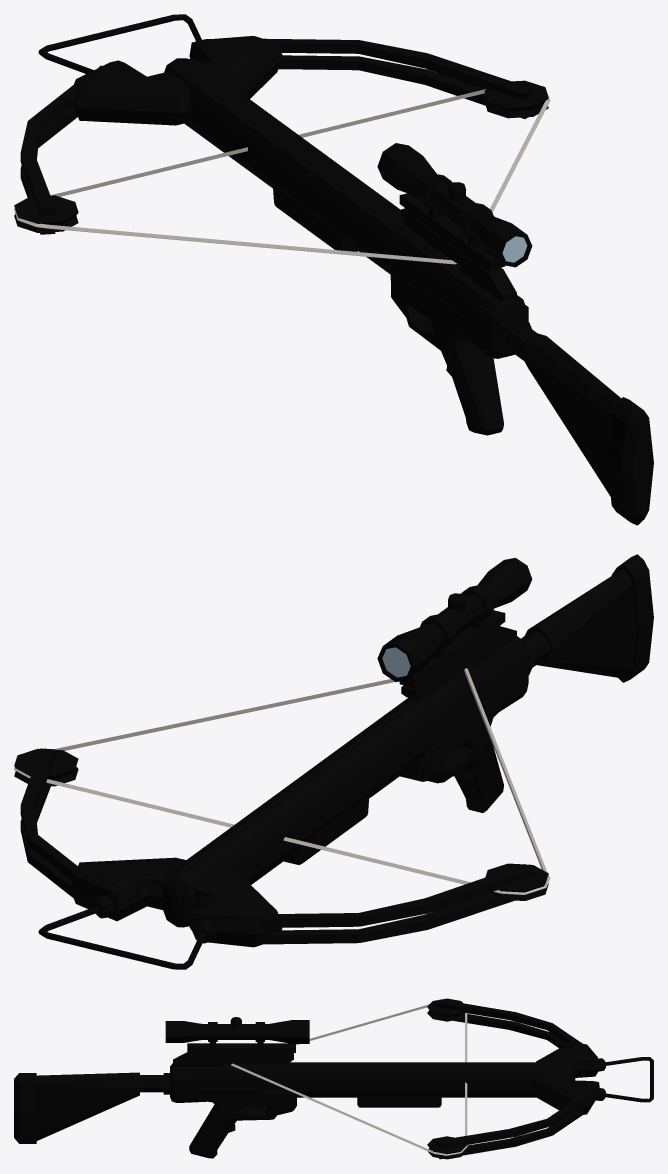
File: crossbow.glb
3 renders of one model, top to bottom at view 1: azimuth 30°, elevation 25°; view 2: azimuth 150°, elevation 25°; view 3: azimuth 270°, elevation 25°, orthographic. The views are drawn at different scales.
Parts seen in each view (by area): view 1: Crossbow; view 2: Crossbow; view 3: Crossbow.
Boxes of the visible parts, bbox=[...] form: Crossbow: bbox=[14, 14, 653, 525]; Crossbow: bbox=[14, 554, 653, 969]; Crossbow: bbox=[14, 998, 653, 1159].
Bounding box in the file's own units: 1.08 × 0.4473 × 1.88.
Materials: 1 (1 with a texture image).
